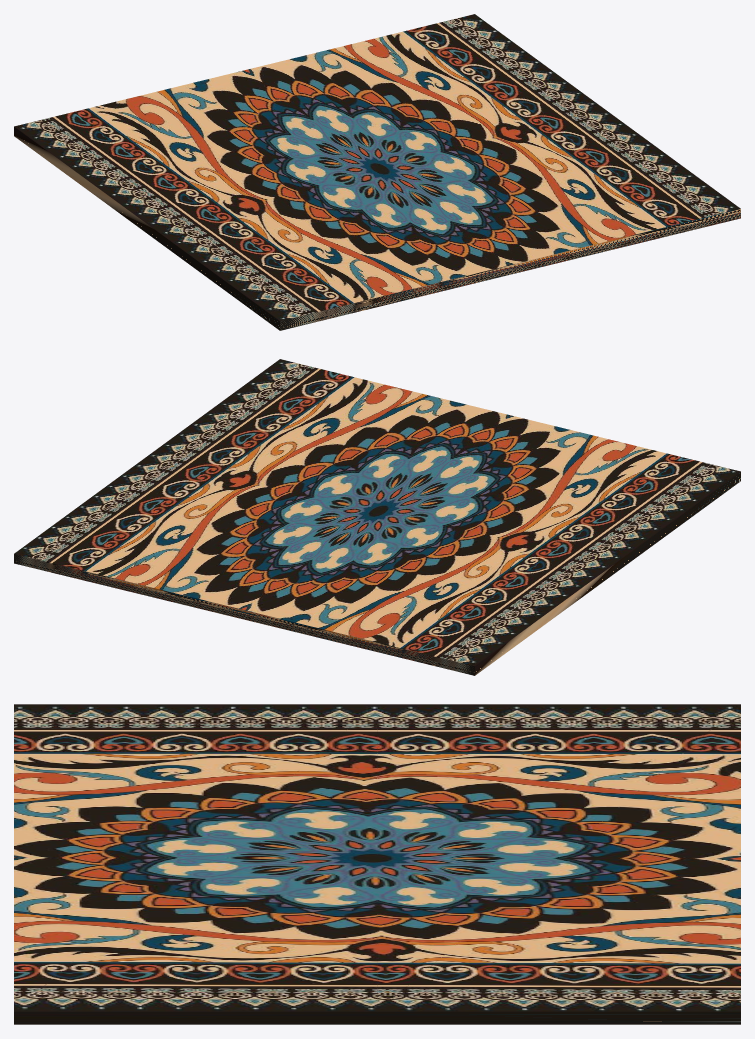
Rendered from tapete_centro.fbx.
3 views of the same model, one above another, from view 1: azimuth 30°, elevation 25°; view 2: azimuth 150°, elevation 25°; view 3: azimuth 270°, elevation 25° (orthographic). The views are drawn at different scales.
Parts seen in each view (by area): view 1: tapete_meio; view 2: tapete_meio; view 3: tapete_meio.
Boxes of the visible parts, x1=… form: tapete_meio: x1=14, y1=14, x2=740, y2=330; tapete_meio: x1=14, y1=359, x2=740, y2=675; tapete_meio: x1=14, y1=704, x2=740, y2=1024.
Bounding box in the file's own units: 1 × 0.02 × 1.
